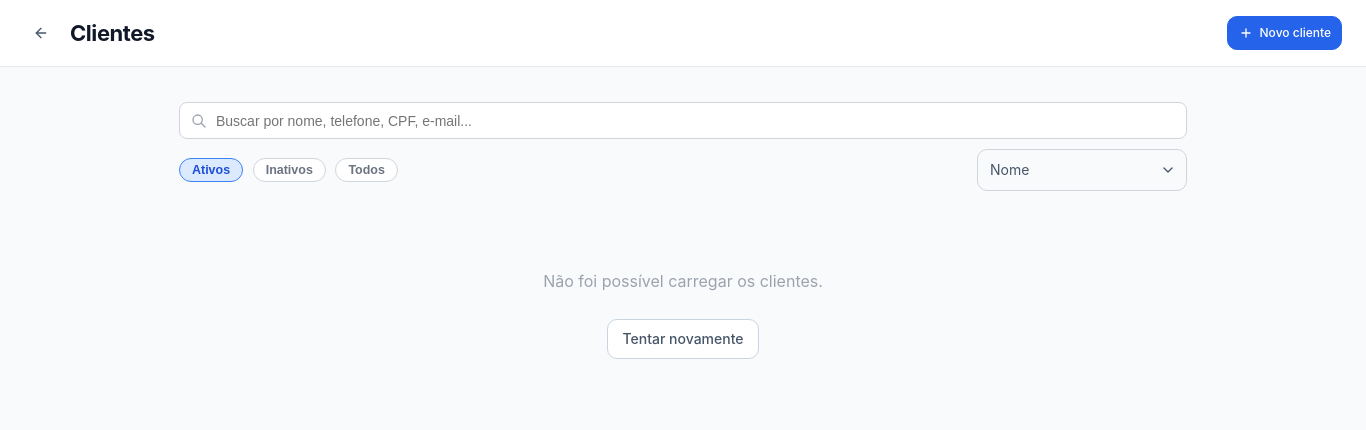
Test: Customer status filters › shows a recoverable error instead of claiming there are no customers
Expected: the message "Não foi possível carregar os clientes. Tentar novamente" is shown, [543,271,823,359]
Click the button "Tentar novamente": x=683, y=339 [608,319,759,359]
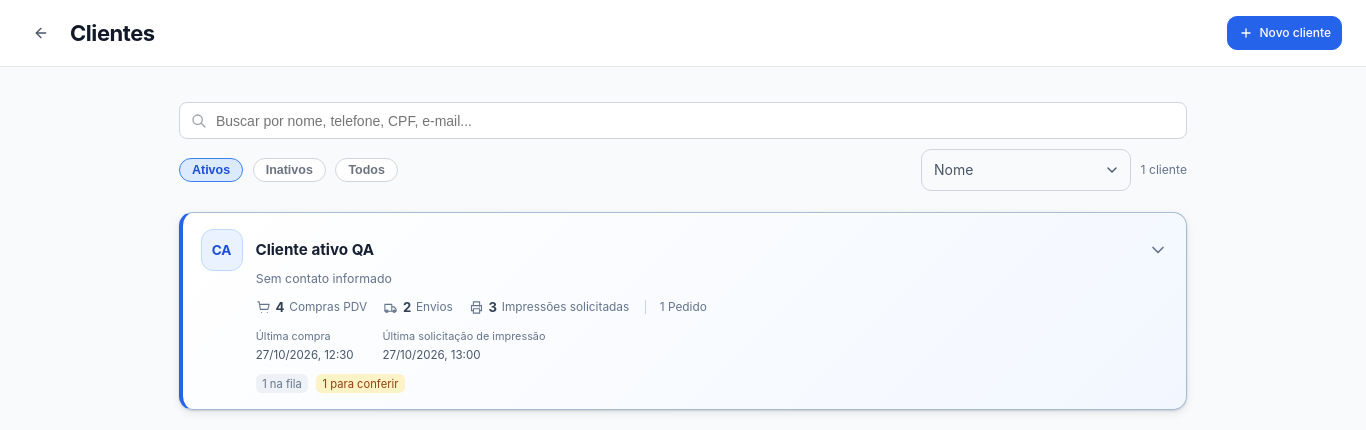
Now the message "Não foi possível carregar os clientes. Tentar novamente" is gone
Now the number of elements with class "cliente-wrap" is 1, box [179,212,1187,410]
